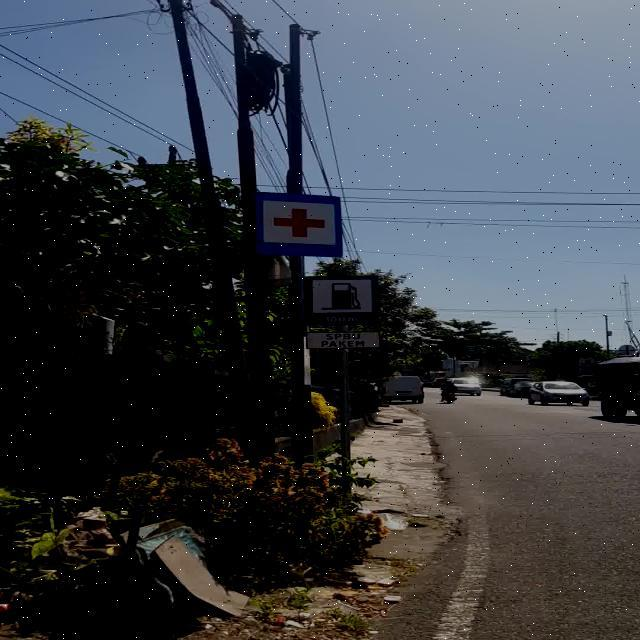Balai Pertolongan Pertama: (255, 192, 342, 257)
Pom Bensin: (304, 274, 381, 326)
